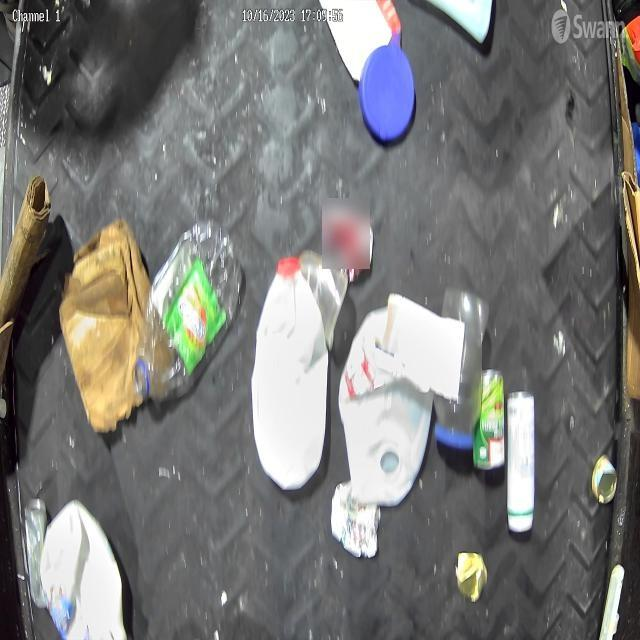milk_jug: (343, 306, 428, 500), (256, 261, 325, 492)
plastic_bottle: (132, 224, 238, 388), (589, 454, 617, 506)
